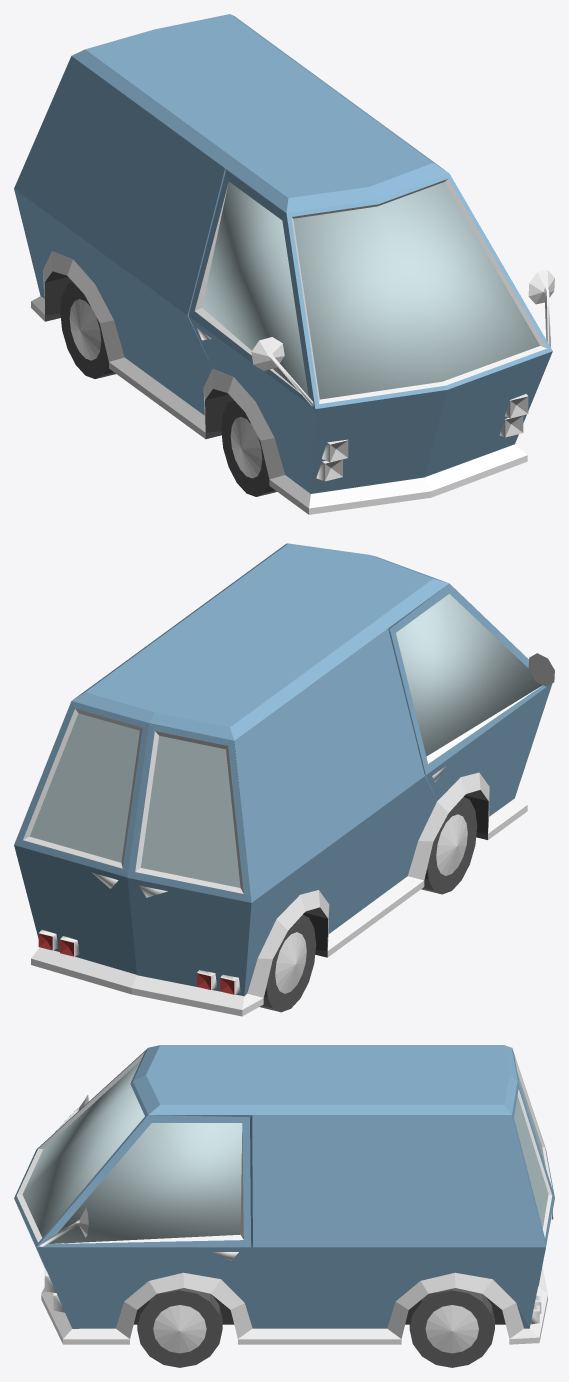
File: car (2).fbx
3 views of the same model, one above another, from view 1: azimuth 30°, elevation 25°; view 2: azimuth 150°, elevation 25°; view 3: azimuth 270°, elevation 25° (orthographic). The views are drawn at different scales.
Visible parts, largest first — view 1: van_A_Body.001, van_A_wheelRR.001, van_A_wheelFR.001; view 2: van_A_Body.001, van_A_Body.003, van_A_Body.002, van_A_wheelFR.001, van_A_wheelRR.001; view 3: van_A_Body.001, van_A_wheelRL.001, van_A_wheelFL.001, van_A_Body.002, van_A_Body.003.
Part boxes in pixels (bbox=[...]): van_A_Body.001: bbox=[14, 14, 554, 514]; van_A_wheelRR.001: bbox=[60, 282, 115, 378]; van_A_wheelFR.001: bbox=[221, 400, 276, 496]; van_A_Body.001: bbox=[31, 543, 554, 1016]; van_A_Body.003: bbox=[127, 723, 251, 995]; van_A_Body.002: bbox=[14, 701, 149, 974]; van_A_wheelFR.001: bbox=[421, 797, 477, 894]; van_A_wheelRR.001: bbox=[259, 915, 316, 1012]; van_A_Body.001: bbox=[14, 1045, 547, 1344]; van_A_wheelRL.001: bbox=[409, 1288, 494, 1367]; van_A_wheelFL.001: bbox=[137, 1288, 222, 1367]; van_A_Body.002: bbox=[512, 1081, 554, 1324]; van_A_Body.003: bbox=[512, 1048, 554, 1286].
Bounding box in the file's own units: 230 × 215 × 420.
